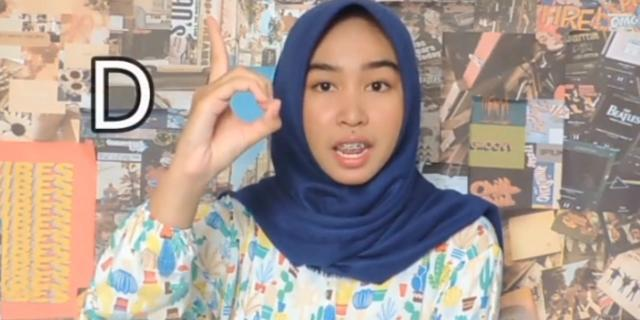D: (175, 17, 282, 172)
